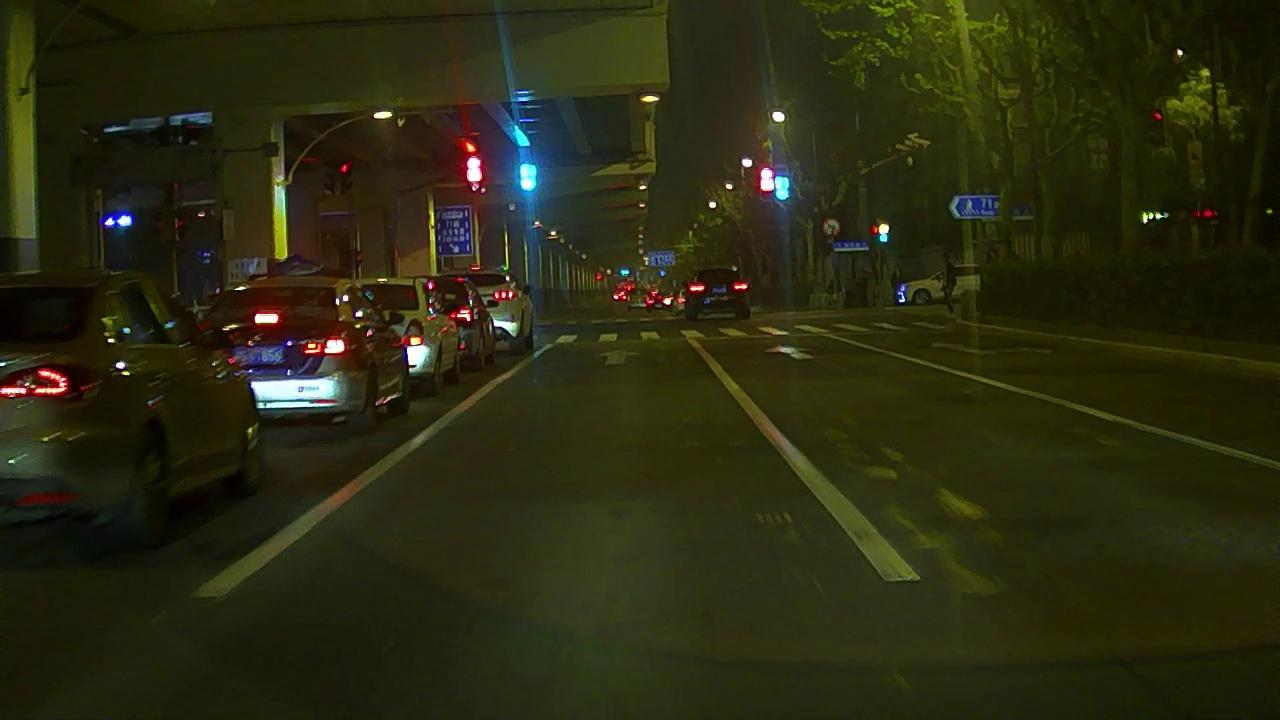traffic_light: (518, 163, 536, 190), (468, 157, 481, 183), (775, 177, 790, 198), (759, 167, 772, 190)
